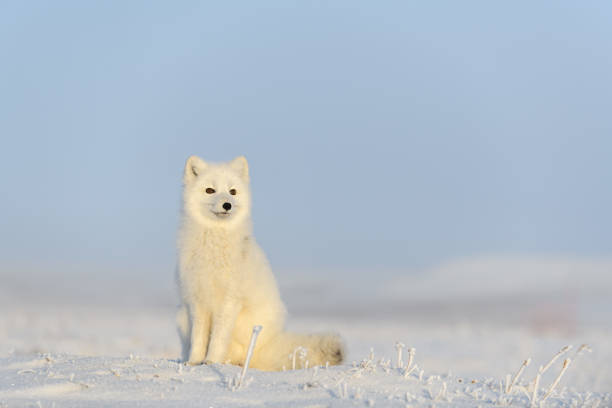arcticfox: (187, 160, 246, 243)
